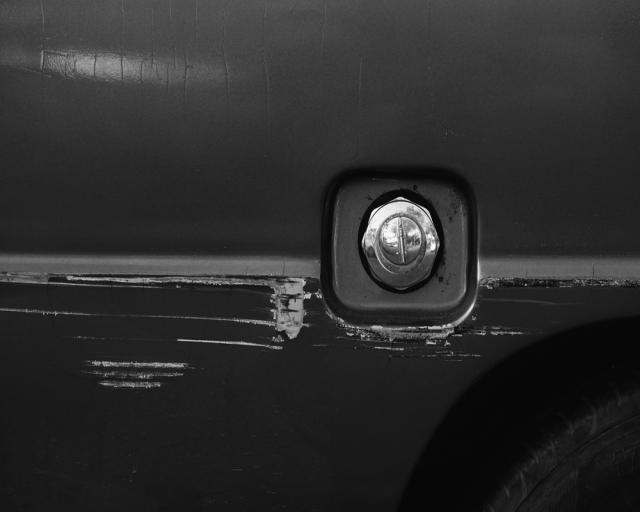scratch: (0, 270, 640, 392)
